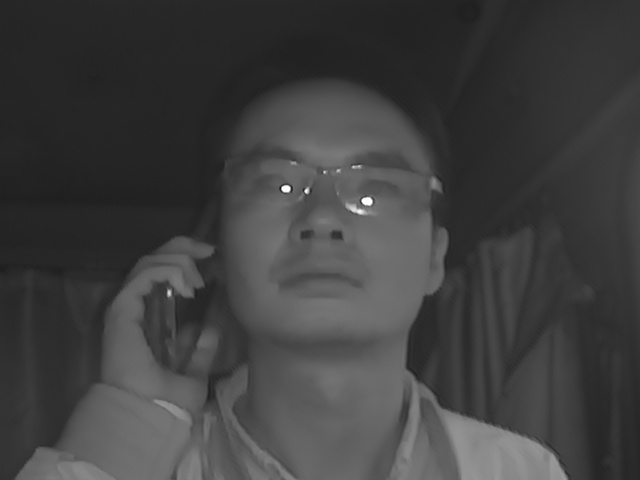hand: (93, 233, 224, 419)
